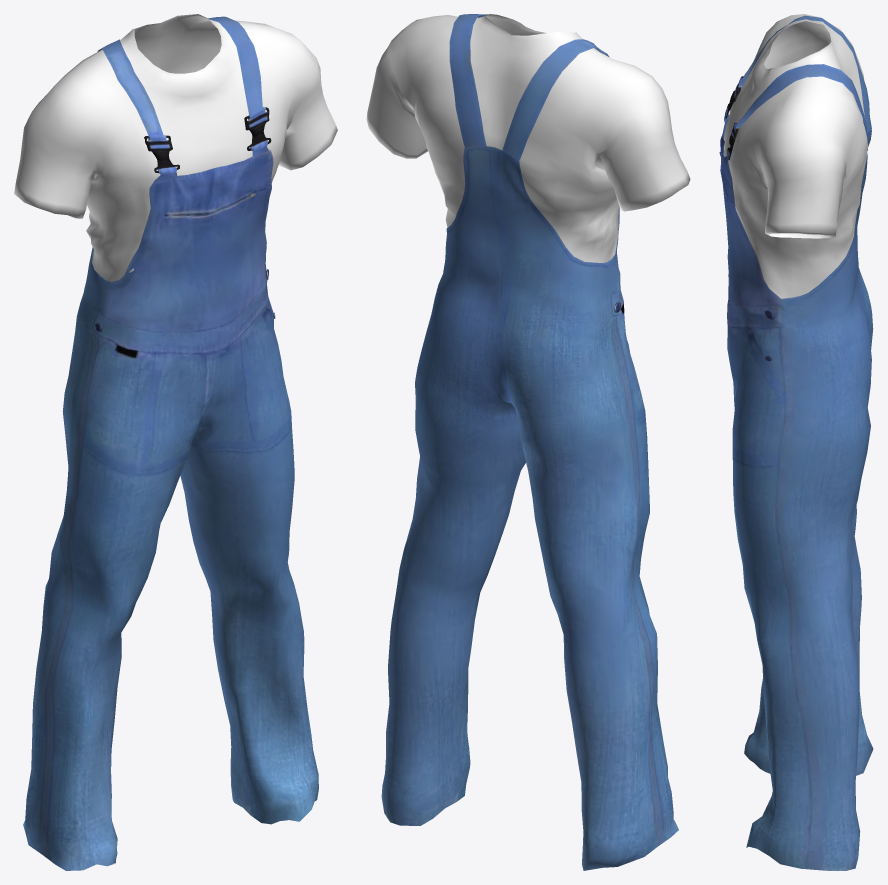
Rendered from male-worksuit01.glb.
3 views of the same model, side by side, from view 1: azimuth 30°, elevation 25°; view 2: azimuth 150°, elevation 25°; view 3: azimuth 270°, elevation 25° (orthographic). The views are drawn at different scales.
Parts seen in each view (by area): view 1: Human.male_worksuit01; view 2: Human.male_worksuit01; view 3: Human.male_worksuit01.
Part boxes in pixels (x1,y1,x2,y2): Human.male_worksuit01: [14, 14, 337, 870]; Human.male_worksuit01: [366, 14, 690, 870]; Human.male_worksuit01: [719, 14, 873, 870].
Size of the model in its own units: 0.6306 by 1.57 by 0.2806.
Materials: 1 (1 with a texture image).
